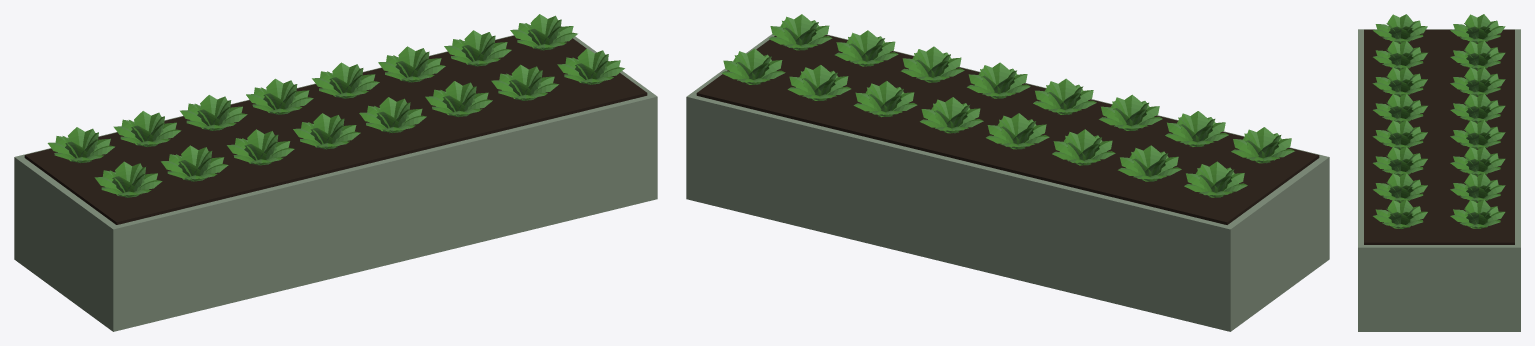
File: lettuce_bed.dae
The picture shows the model from 3 angles, left to right: view 1: azimuth 30°, elevation 25°; view 2: azimuth 150°, elevation 25°; view 3: azimuth 270°, elevation 25°; orthographic projection. The views are drawn at different scales.
Parts seen in each view (by area): view 1: model; view 2: model; view 3: model.
Boxes of the visible parts, <box> form: model: <box>14,14,657,331</box>; model: <box>686,14,1329,331</box>; model: <box>1358,14,1520,331</box>.
Size of the model in its own units: 4 by 1.26 by 0.94.
